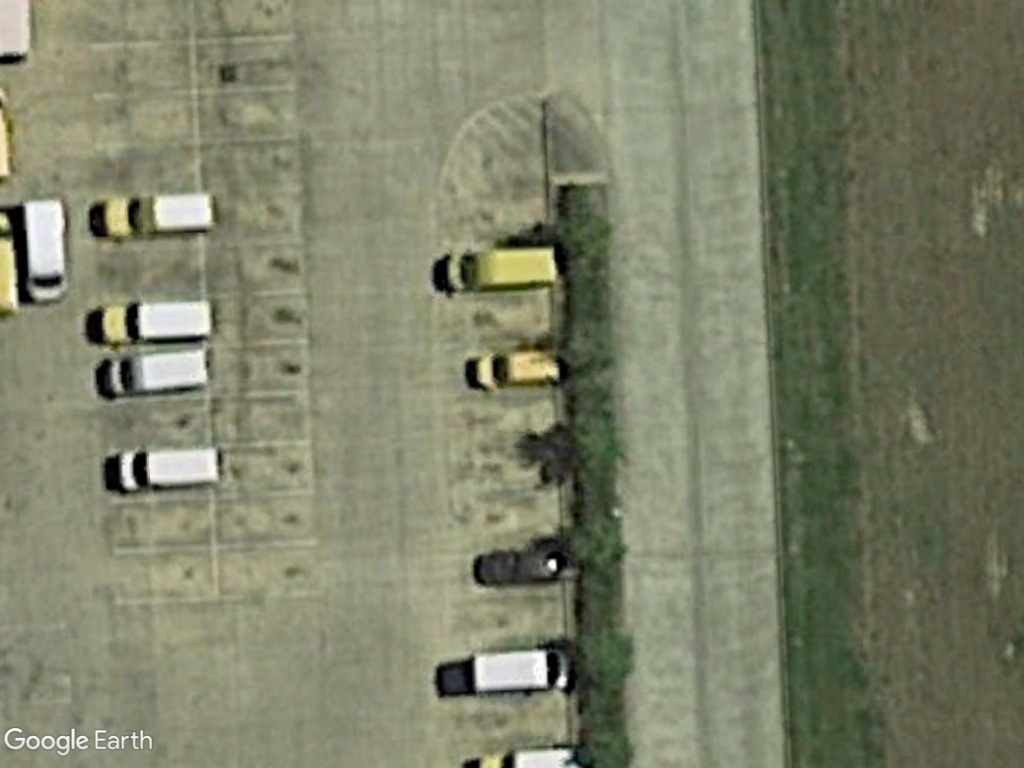van: (434, 239, 561, 302), (98, 294, 220, 346), (99, 189, 222, 240), (100, 342, 211, 398), (20, 193, 73, 308), (115, 440, 224, 495), (470, 645, 575, 700), (471, 339, 567, 396)
